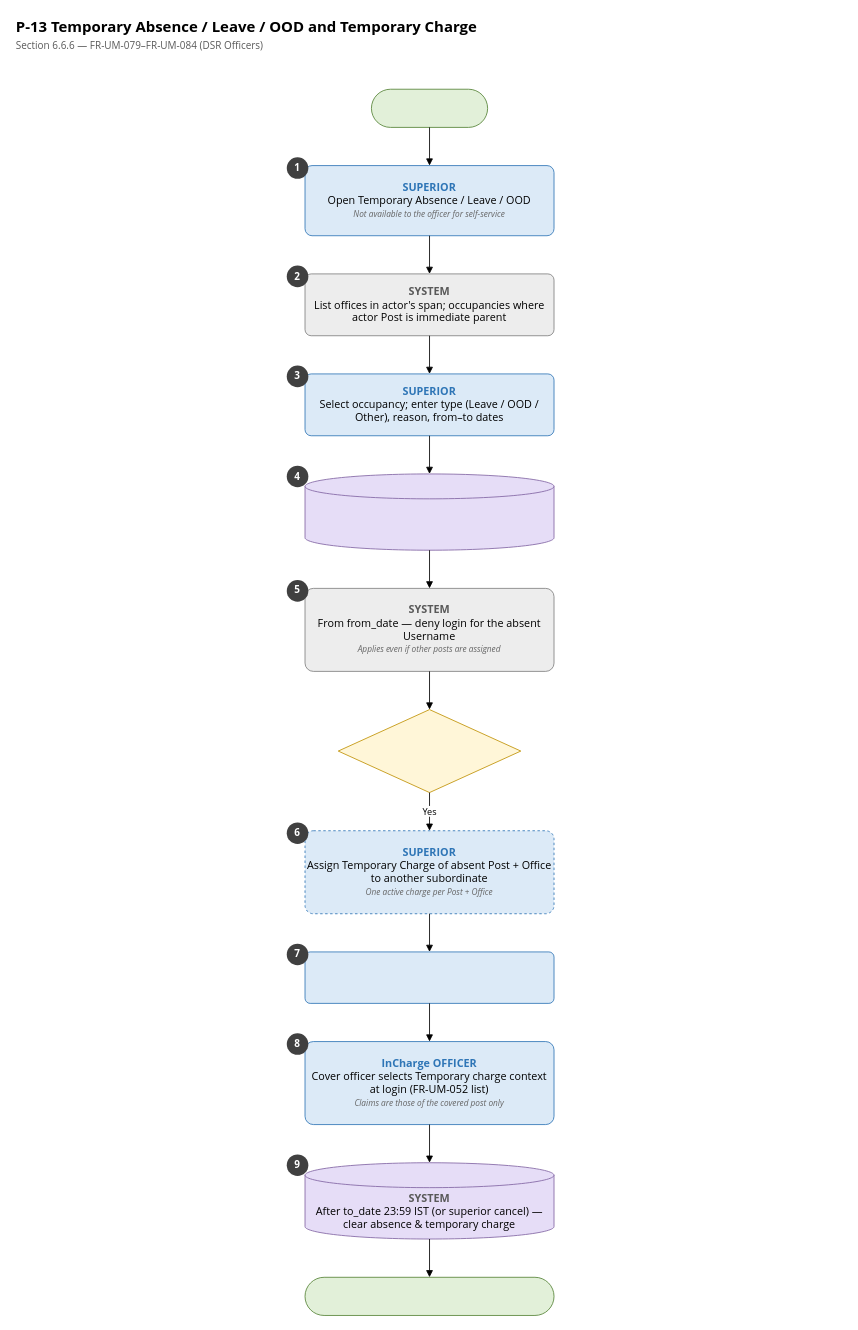
Image size: 858x1330. Some labels were removed from this diagram. The centre of each missing label's shape, as x and y in pixels:
ABSENTEE MAY LOG IN AGAIN: the point at 429,1295
Assign Temporary Charge?: the point at 429,751
InCharge OFFICER Cover officer authenticates: the point at 429,977
START: the point at 429,107
SYSTEM Confirm absence — linked to occupancy; Occupied unchanged: the point at 429,511
